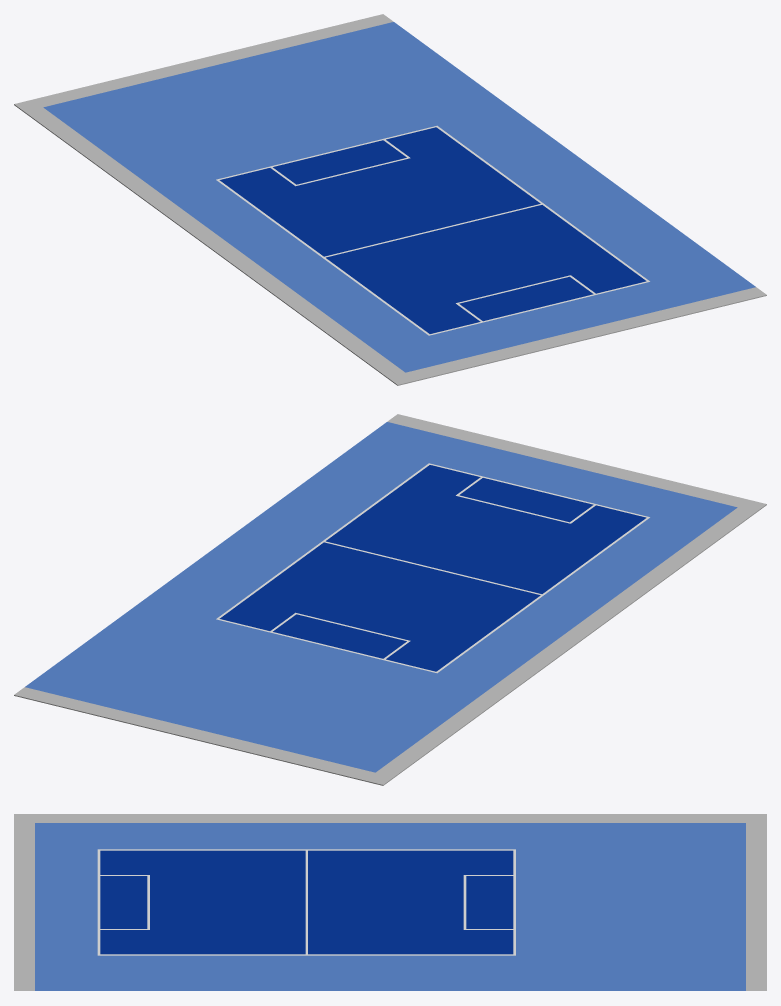
Rendered from football.glb.
3 views of the same model, one above another, from view 1: azimuth 30°, elevation 25°; view 2: azimuth 150°, elevation 25°; view 3: azimuth 270°, elevation 25° (orthographic).
Parts seen in each view (by area): view 1: Plane; view 2: Plane; view 3: Plane.
Boxes of the visible parts, x1,y1,x2,y2 form: Plane: [14, 14, 766, 385]; Plane: [14, 414, 766, 785]; Plane: [14, 814, 766, 990].
Bounding box in the file's own units: 40 × 0.1 × 72.
